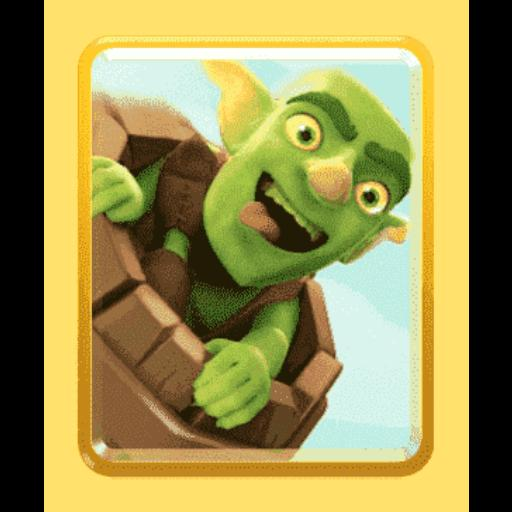goblin-barrel: (86, 60, 414, 448)
